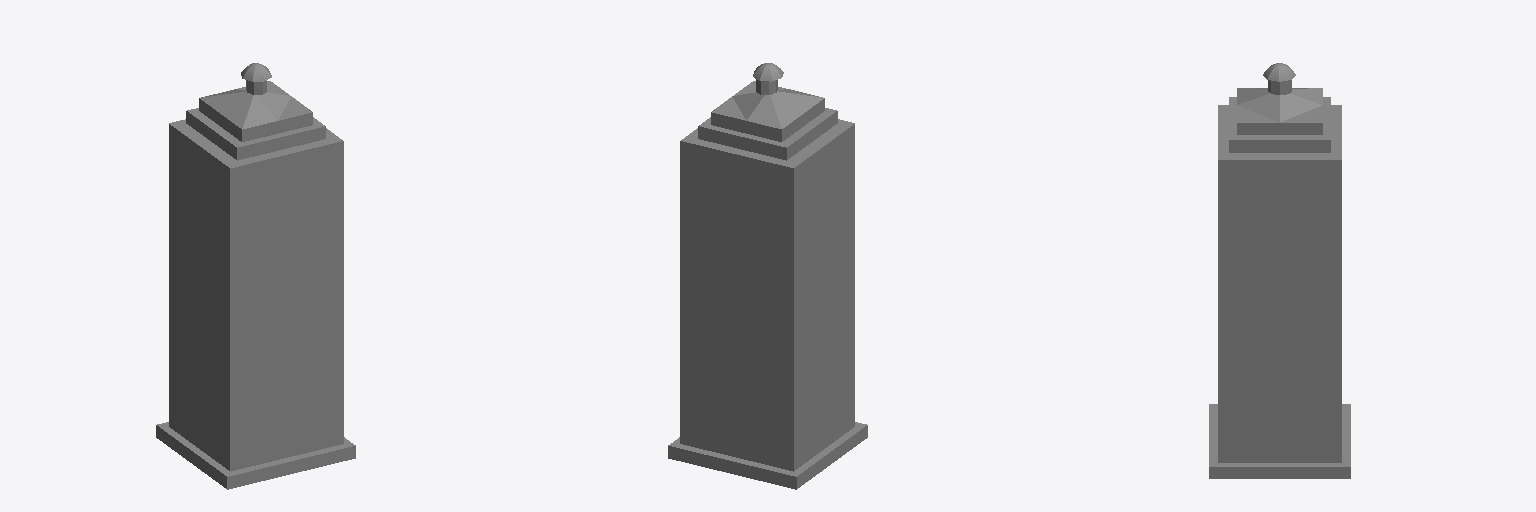
Rendered from tardis1314.obj.
3 renders of one model, left to right at view 1: azimuth 30°, elevation 25°; view 2: azimuth 150°, elevation 25°; view 3: azimuth 270°, elevation 25°, orthographic.
Parts seen in each view (by area): view 1: Model:Tardis; view 2: Model:Tardis; view 3: Model:Tardis.
Part boxes in pixels (x1,y1,x2,y2): Model:Tardis: (156, 63, 355, 489); Model:Tardis: (668, 63, 867, 489); Model:Tardis: (1209, 63, 1350, 478).
Size of the model in its own units: 1.15 by 3.28 by 1.1.